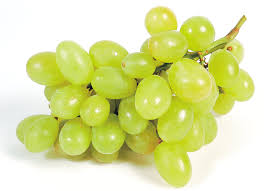Green grapes: (44, 22, 214, 175)
